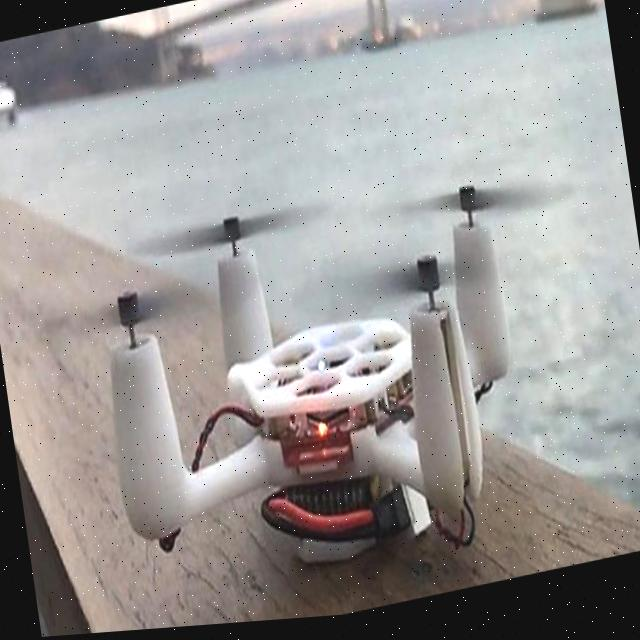drone: (54, 125, 592, 581)
